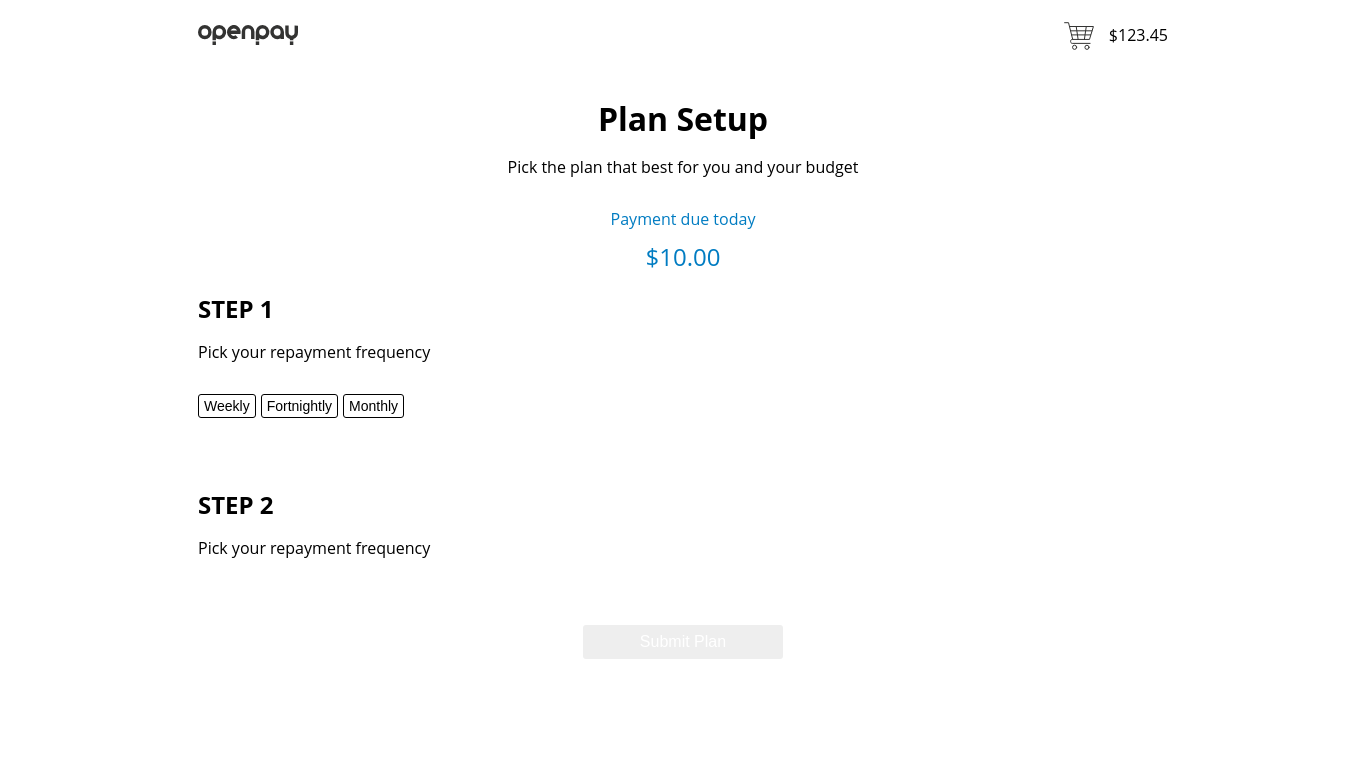
Scenario: Test response to actions › There should be plans that users can select
Click the button with test id "1": (227, 406) [198,394,256,418]
(page scrolled)
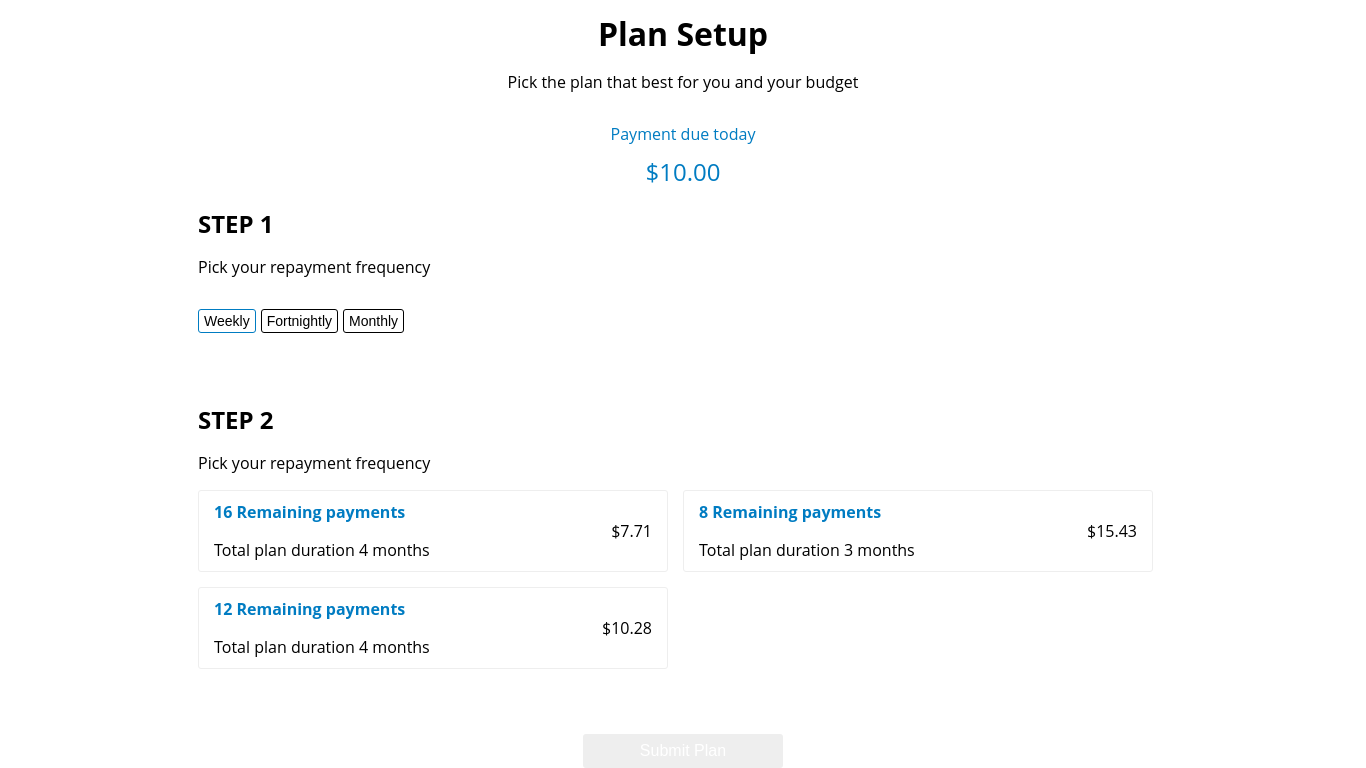
Check: the element with test id "plan-items-list" shows "Total plan duration", box [214,539,359,561]
